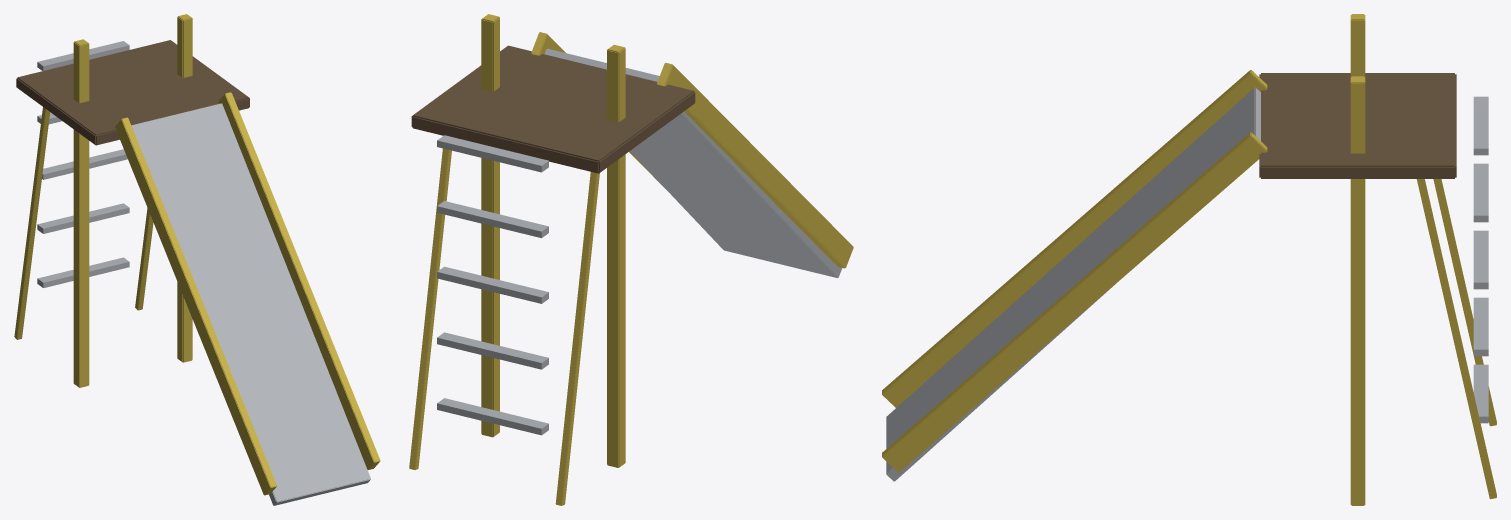
Rendered from slide.glb.
3 views of the same model, side by side, from view 1: azimuth 30°, elevation 25°; view 2: azimuth 150°, elevation 25°; view 3: azimuth 270°, elevation 25° (orthographic). The views are drawn at different scales.
Parts seen in each view (by area): view 1: slide_mesh; view 2: slide_mesh; view 3: slide_mesh.
Boxes of the visible parts, x1,y1,x2,y2 form: slide_mesh: (14, 14, 380, 505); slide_mesh: (409, 14, 853, 505); slide_mesh: (882, 14, 1496, 505).
Size of what is drawn, in the model's own units: 0.9 by 1.9 by 2.5.
